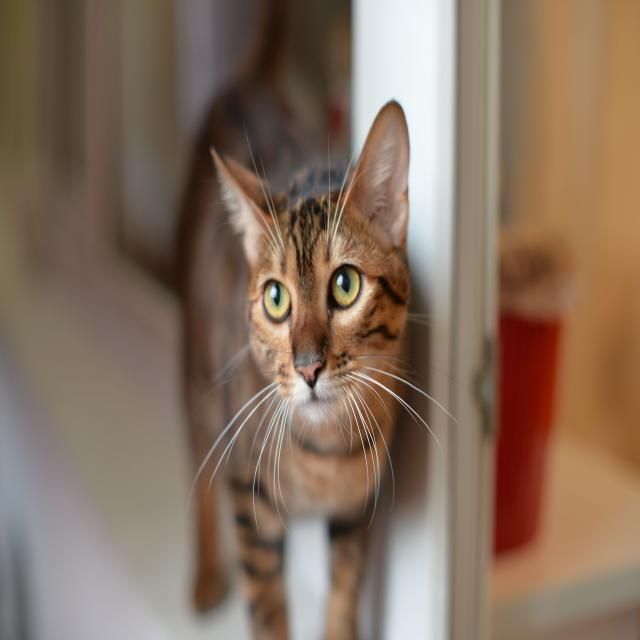Toyger: (205, 82, 420, 640)
